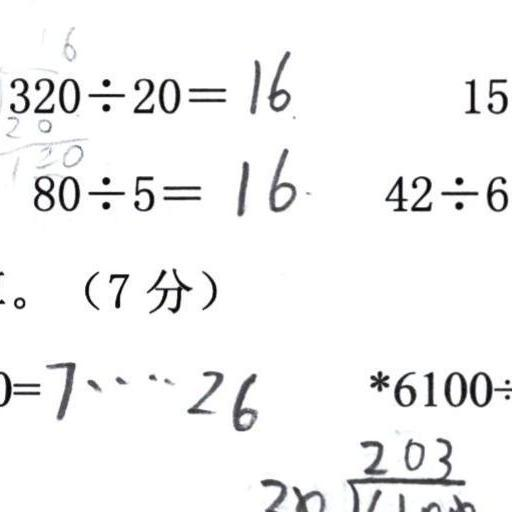ans: (42, 354, 260, 433), (228, 143, 296, 216), (242, 46, 292, 114)
